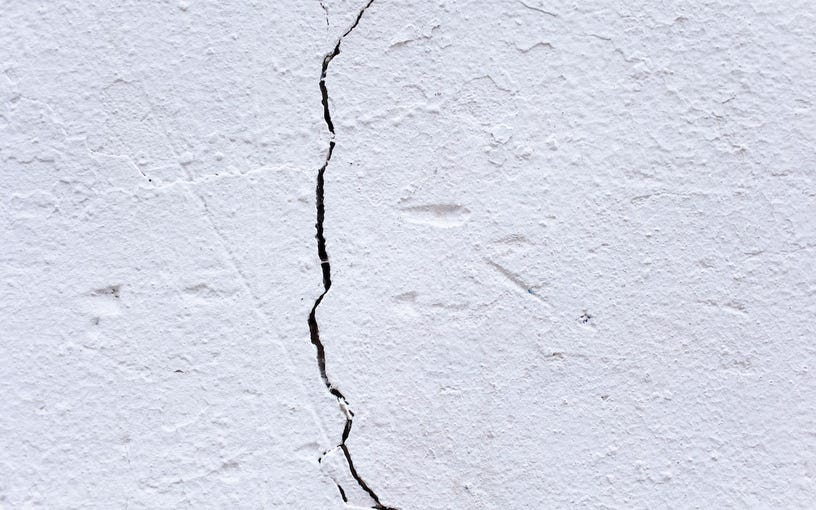crack: (303, 0, 391, 509)
